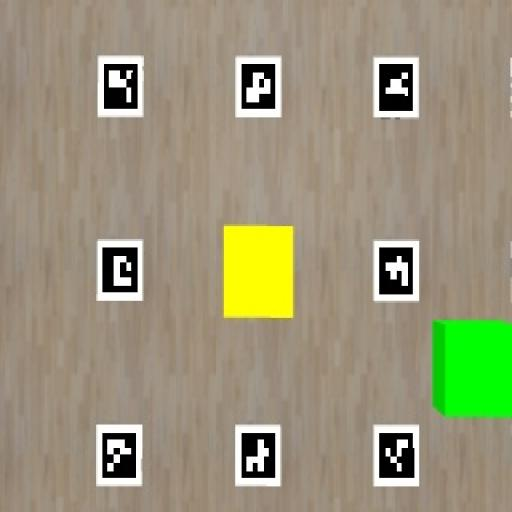car: (432, 320, 511, 418)
fire: (223, 227, 294, 319)
